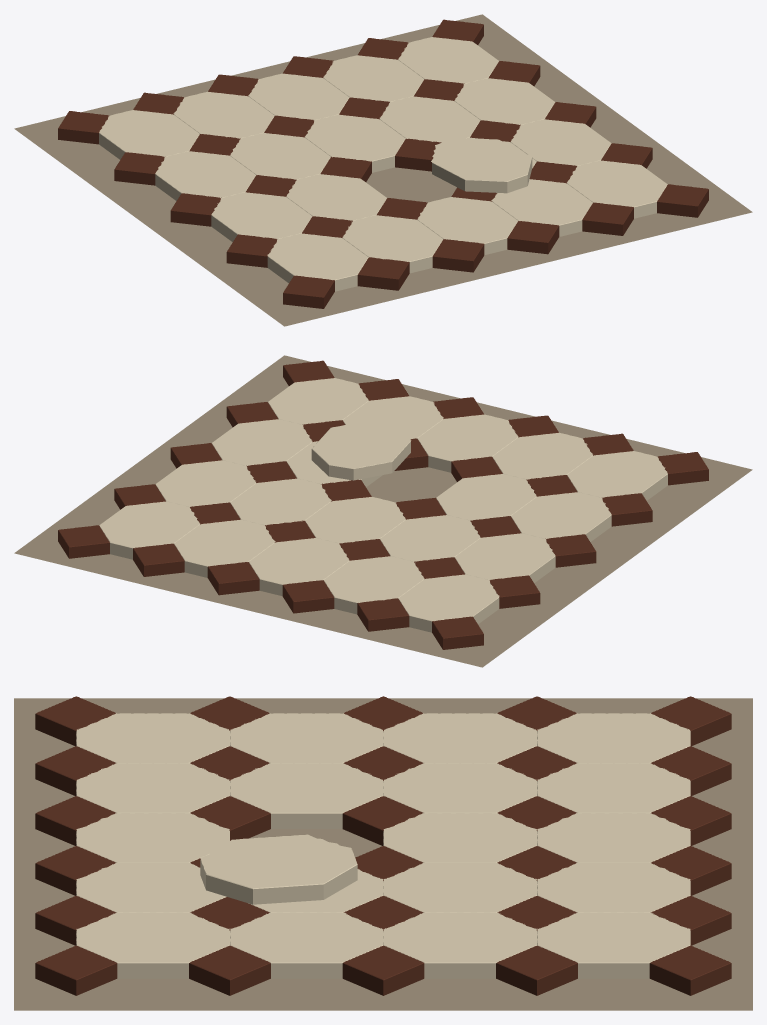
File: terilgan.glb
The picture shows the model from 3 angles, top to bottom: view 1: azimuth 30°, elevation 25°; view 2: azimuth 150°, elevation 25°; view 3: azimuth 270°, elevation 25°; orthographic projection. The views are drawn at different scales.
Visible parts, largest first — view 1: qum, t.026, t.006, t.015, t.010, t.008, t.024, t.012, t.028, t.042, t.033, t.046 (+37 smaller); view 2: qum, t.026, t.012, t.021, t.008, t.024, t.010, t.030, t.039, t.006, t.048, t.037 (+38 smaller); view 3: qum, t.026, t.046, t.048, t.042, t.044, t.017, t.012, t.006, t.010, t.008, t.019 (+38 smaller).
Boxes of the visible parts, left/top/right/bottom form: qum: left=14, top=14, right=752, bottom=326; t.026: left=431, top=137, right=532, bottom=193; t.006: left=267, top=233, right=368, bottom=291; t.015: left=342, top=215, right=443, bottom=273; t.010: left=155, top=151, right=256, bottom=200; t.008: left=211, top=192, right=312, bottom=241; t.024: left=417, top=197, right=517, bottom=255; t.012: left=99, top=110, right=199, bottom=159; t.028: left=305, top=114, right=405, bottom=172; t.042: left=567, top=160, right=667, bottom=218; t.033: left=491, top=179, right=592, bottom=236; t.046: left=454, top=78, right=555, bottom=124; qum: left=14, top=355, right=752, bottom=667; t.026: left=311, top=420, right=411, bottom=480; t.012: left=398, top=574, right=499, bottom=632; t.021: left=323, top=556, right=424, bottom=614; t.008: left=510, top=492, right=611, bottom=541; t.024: left=417, top=414, right=518, bottom=472; t.010: left=454, top=533, right=555, bottom=582; t.030: left=249, top=538, right=349, bottom=596; t.039: left=174, top=519, right=275, bottom=577; t.006: left=567, top=451, right=667, bottom=500; t.048: left=99, top=501, right=199, bottom=559; t.037: left=230, top=478, right=331, bottom=525; qum: left=14, top=698, right=752, bottom=1010; t.026: left=200, top=834, right=357, bottom=904; t.046: left=383, top=912, right=536, bottom=978; t.048: left=537, top=912, right=690, bottom=978; t.042: left=76, top=912, right=229, bottom=978; t.044: left=230, top=912, right=383, bottom=978; t.017: left=230, top=763, right=383, bottom=828; t.012: left=537, top=713, right=690, bottom=763; t.006: left=76, top=713, right=229, bottom=763; t.010: left=383, top=713, right=536, bottom=763; t.008: left=230, top=713, right=383, bottom=763; t.019: left=383, top=763, right=536, bottom=813.
Size of the model in its own units: 1.66 by 0.082 by 1.66.
